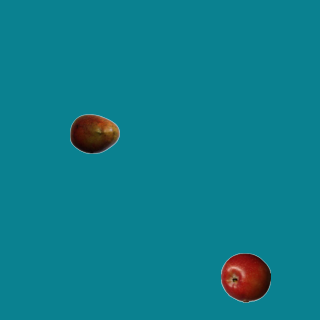Apple Braeburn: (220, 252, 270, 302)
Mango Red: (69, 108, 119, 158)
